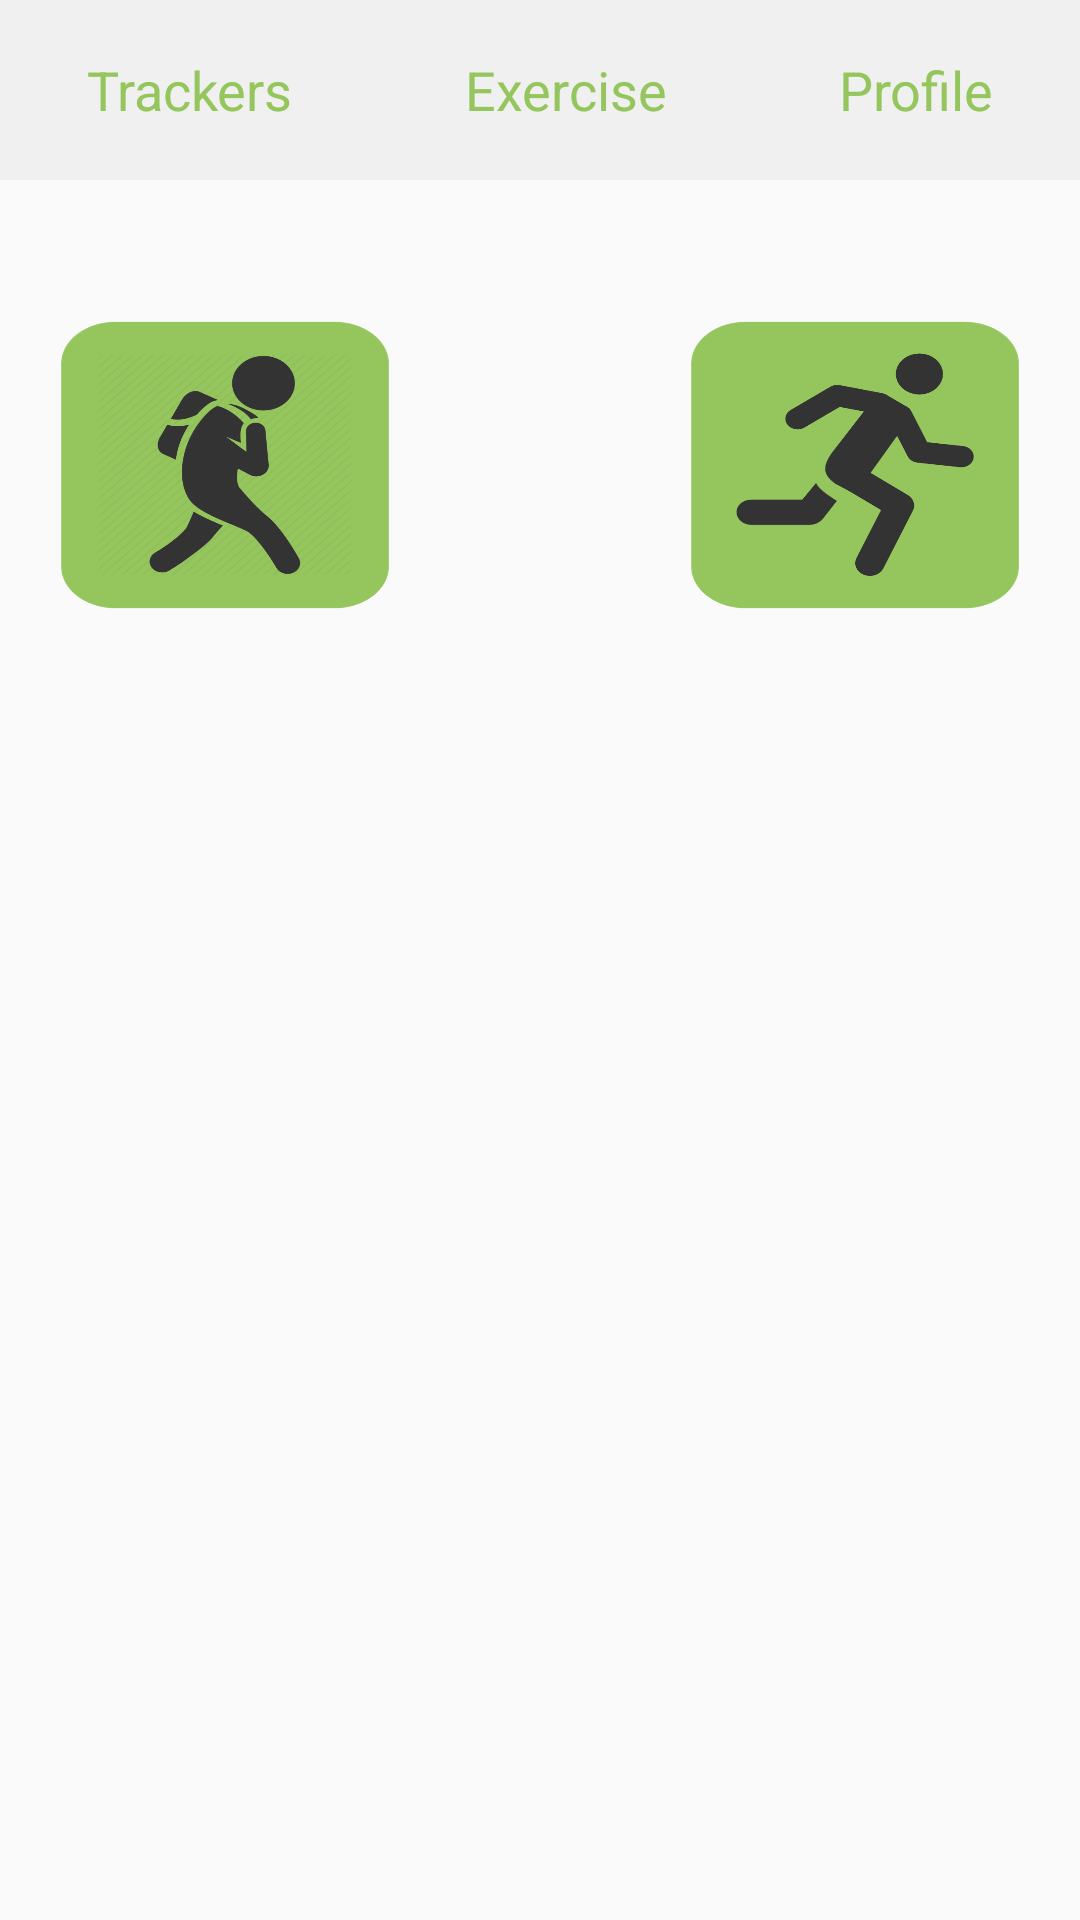

Icon click points for this 1080px x 1920px phone screenshot, format (x,y):
roundrunning: (855,465)
roundwalking: (225,465)
